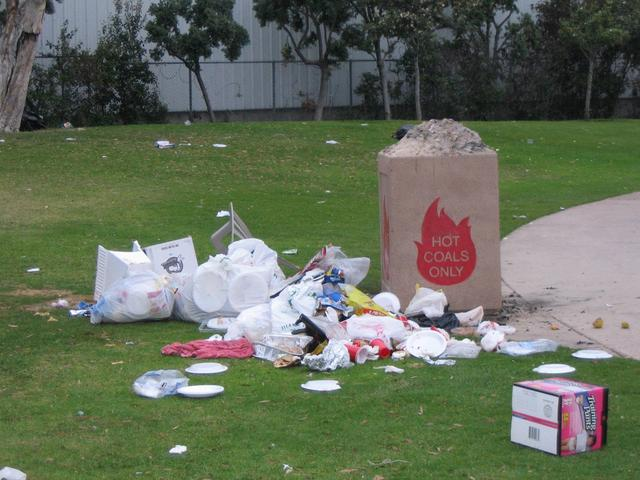garbage: (98, 247, 377, 323), (248, 290, 457, 356)
